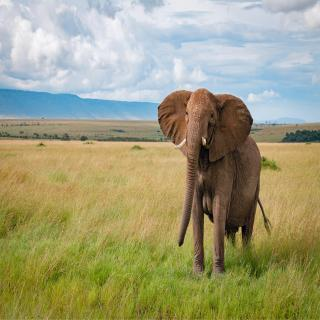Elephant: (150, 76, 280, 278)
